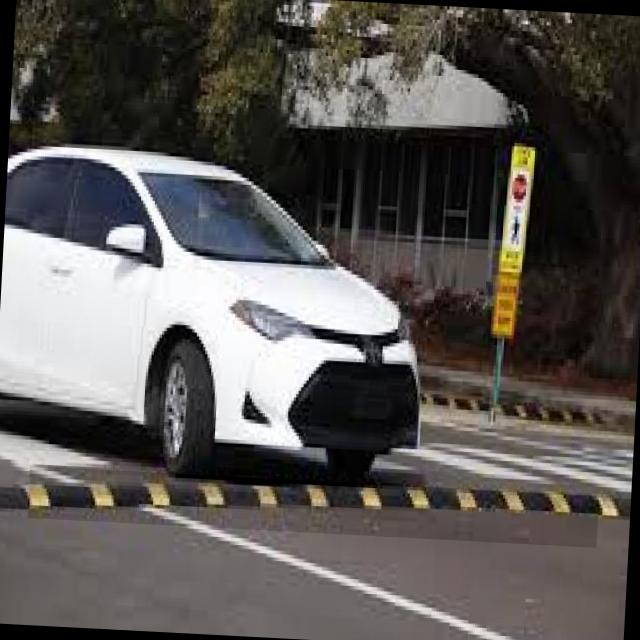bump: (28, 466, 600, 548)
